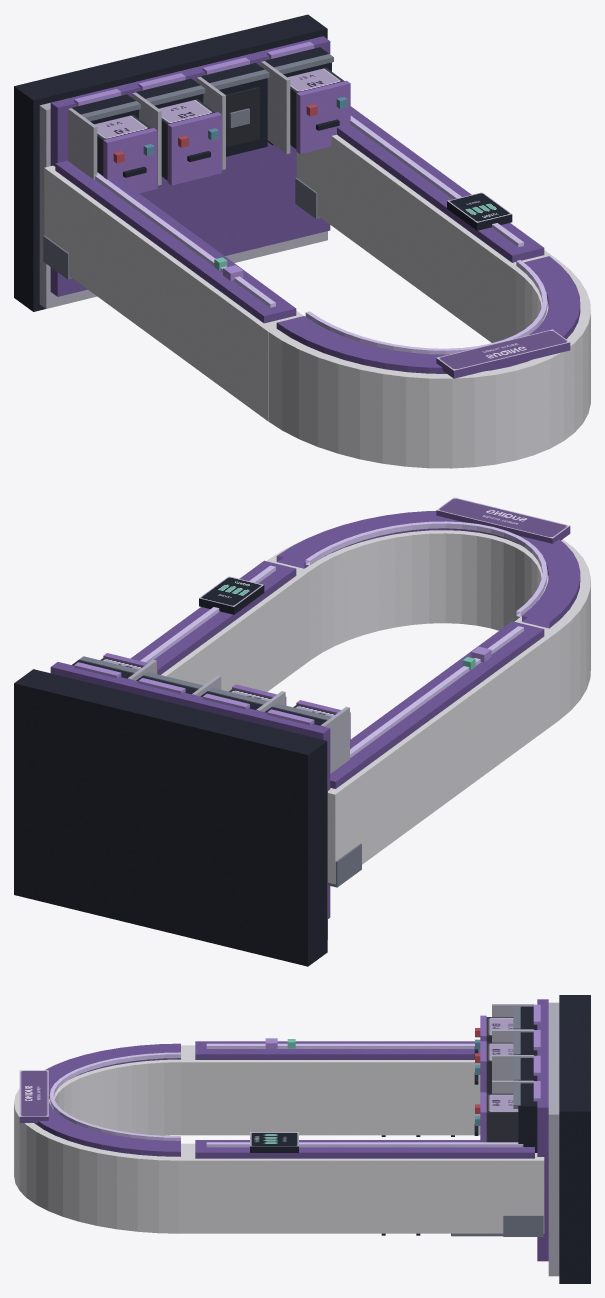
File: portal_11.obj
3 views of the same model, one above another, from view 1: azimuth 30°, elevation 25°; view 2: azimuth 150°, elevation 25°; view 3: azimuth 270°, elevation 25° (orthographic). The views are drawn at different scales.
Parts seen in each view (by area): view 1: SuQingPortal_mask_11; view 2: SuQingPortal_mask_11; view 3: SuQingPortal_mask_11.
Part boxes in pixels (x1=…): SuQingPortal_mask_11: x1=14, y1=14, x2=590, y2=468; SuQingPortal_mask_11: x1=14, y1=497, x2=590, y2=966; SuQingPortal_mask_11: x1=14, y1=995, x2=590, y2=1283.
Bounding box in the file's own units: 0.96 × 0.668 × 2.01.
Materials: 1 (1 with a texture image).
